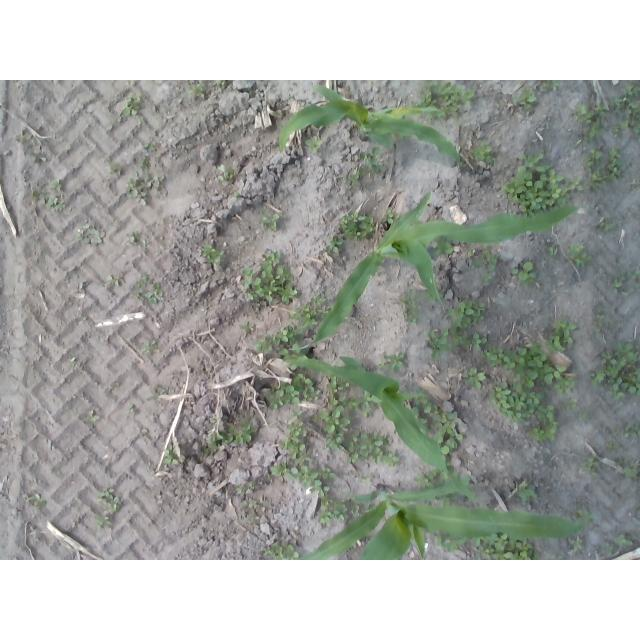Maize: (287, 189, 577, 349), (281, 357, 476, 499), (300, 484, 583, 561), (279, 87, 462, 170)
Weeds: (480, 343, 568, 389), (241, 252, 300, 305), (590, 342, 640, 399), (504, 170, 572, 211), (490, 383, 545, 423), (425, 404, 464, 455), (422, 83, 475, 120), (318, 398, 352, 451), (479, 532, 534, 560), (347, 432, 389, 465), (578, 103, 608, 144), (543, 319, 577, 352), (448, 301, 486, 329), (266, 384, 303, 409), (347, 390, 378, 418), (315, 498, 349, 523), (280, 344, 308, 371), (295, 373, 321, 402), (225, 419, 252, 446), (510, 87, 538, 110), (296, 465, 321, 490), (97, 488, 123, 512), (517, 153, 544, 176), (263, 544, 299, 561), (460, 367, 486, 390), (77, 223, 103, 246), (340, 213, 365, 236), (272, 326, 299, 347), (533, 421, 560, 442), (429, 332, 450, 359), (268, 462, 296, 481), (203, 429, 223, 455), (360, 147, 380, 173), (294, 308, 319, 328), (511, 261, 537, 279), (518, 482, 538, 505), (620, 115, 640, 137), (475, 253, 498, 272), (121, 96, 141, 117), (471, 142, 491, 162), (282, 439, 304, 457), (607, 149, 621, 177), (553, 378, 575, 395), (468, 333, 488, 351), (311, 477, 329, 496), (147, 383, 166, 401), (584, 149, 603, 167), (286, 422, 306, 439), (259, 214, 279, 231), (405, 288, 422, 308), (577, 458, 599, 472), (451, 329, 468, 347), (188, 83, 205, 101), (254, 335, 273, 351), (607, 385, 626, 401), (165, 444, 180, 464), (386, 353, 406, 368), (624, 421, 640, 439), (305, 136, 323, 152), (381, 208, 399, 224), (127, 177, 142, 196), (414, 476, 434, 490), (361, 216, 374, 237), (26, 494, 46, 507), (218, 166, 234, 182), (94, 515, 111, 530), (539, 405, 556, 420), (48, 196, 66, 210), (140, 341, 156, 356), (382, 451, 399, 465), (570, 175, 583, 193), (435, 242, 453, 255), (625, 100, 639, 116), (566, 243, 582, 257), (147, 176, 165, 188), (203, 245, 218, 259), (30, 151, 46, 164), (442, 540, 460, 551), (629, 268, 640, 285), (32, 190, 45, 204), (579, 509, 591, 524), (136, 191, 148, 206), (575, 254, 590, 266), (624, 467, 640, 478), (417, 388, 428, 404), (324, 468, 337, 481), (86, 410, 100, 422), (615, 97, 624, 115), (572, 538, 585, 550), (146, 292, 159, 304), (591, 171, 605, 182), (107, 165, 122, 175), (154, 283, 164, 298), (310, 296, 326, 305), (50, 178, 62, 190), (329, 383, 343, 393), (239, 321, 253, 331), (611, 278, 625, 288), (623, 86, 635, 97), (131, 283, 142, 295), (292, 409, 305, 419), (349, 505, 359, 518), (108, 275, 121, 285), (346, 175, 359, 185), (589, 323, 600, 334), (566, 399, 577, 410), (128, 231, 139, 242), (403, 314, 418, 322), (214, 252, 227, 261), (325, 244, 339, 252), (483, 271, 493, 281), (576, 103, 585, 114), (617, 536, 628, 545), (141, 159, 150, 170), (19, 132, 28, 143), (607, 440, 615, 452), (330, 237, 343, 244), (128, 403, 137, 413), (139, 275, 148, 285), (248, 483, 256, 494), (605, 223, 616, 231), (430, 470, 442, 477), (550, 248, 559, 257), (362, 475, 372, 483), (144, 142, 154, 150), (605, 542, 614, 550), (485, 157, 495, 164), (551, 81, 558, 91), (111, 382, 118, 391), (71, 357, 77, 367), (215, 80, 227, 85), (579, 413, 587, 420), (595, 314, 605, 319), (614, 127, 621, 134), (587, 183, 595, 189), (613, 429, 619, 436), (482, 243, 488, 250), (636, 509, 640, 519), (251, 426, 257, 432), (377, 363, 383, 369), (200, 371, 209, 375), (237, 487, 242, 493), (210, 418, 216, 423), (618, 459, 623, 465), (613, 288, 618, 292)
